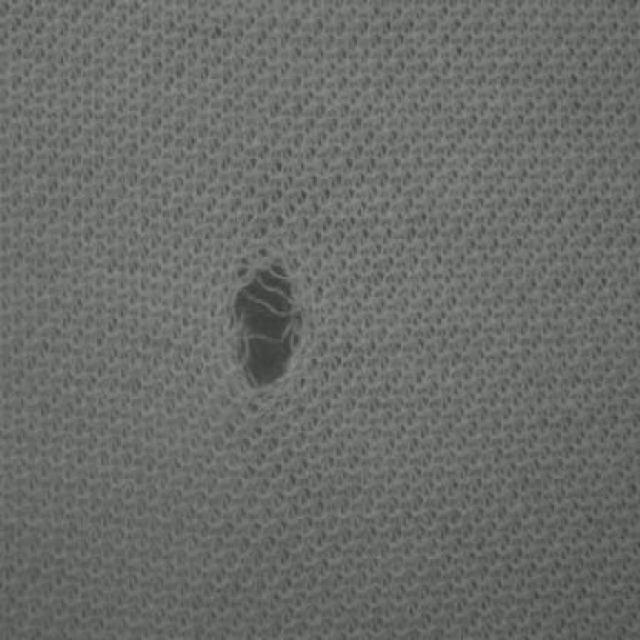Hole: (231, 265, 303, 389)
